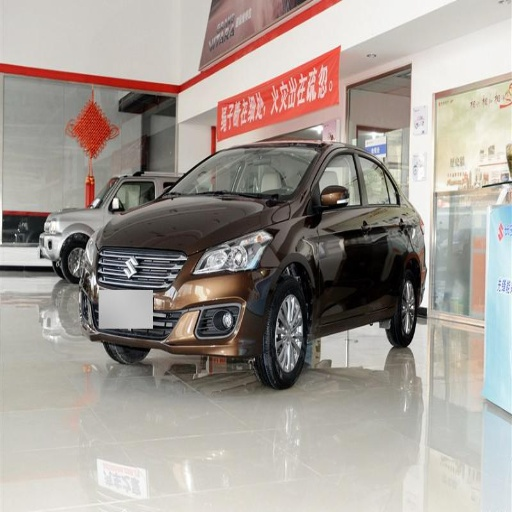back_glass: (212, 1, 269, 36)
front_bumper: (82, 247, 276, 361)
front_glass: (174, 146, 316, 204)
front_left_door: (312, 147, 373, 319)
